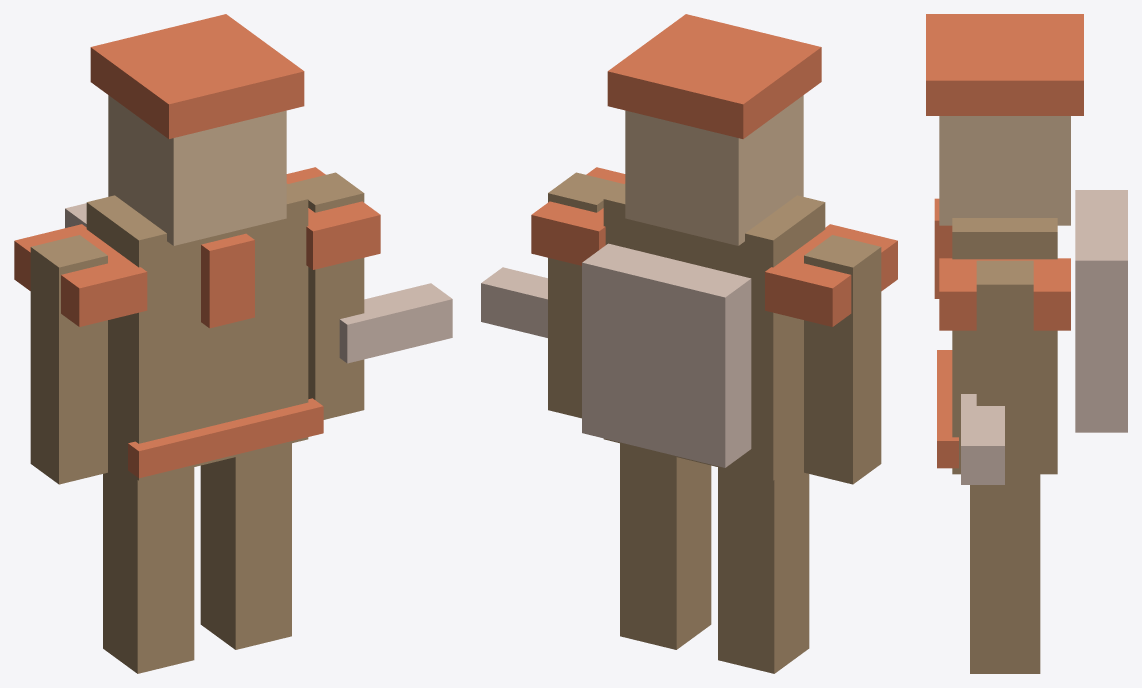
Rendered from 03_selka_frostrelay_herald_from_wind.glb.
3 renders of one model, left to right at view 1: azimuth 30°, elevation 25°; view 2: azimuth 150°, elevation 25°; view 3: azimuth 270°, elevation 25°, orthographic.
Visible parts, largest first — view 1: Selka Frostrelay, Herald from Wind; view 2: Selka Frostrelay, Herald from Wind; view 3: Selka Frostrelay, Herald from Wind.
Part boxes in pixels (bbox=[...]): Selka Frostrelay, Herald from Wind: bbox=[14, 14, 452, 673]; Selka Frostrelay, Herald from Wind: bbox=[481, 14, 897, 673]; Selka Frostrelay, Herald from Wind: bbox=[926, 14, 1127, 673].
Size of the model in its own units: 1.1 by 1.59 by 0.4935.
